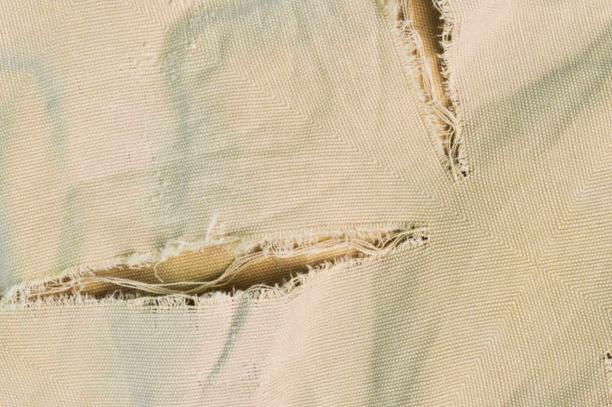hole: (1, 221, 443, 315), (381, 1, 474, 185)
